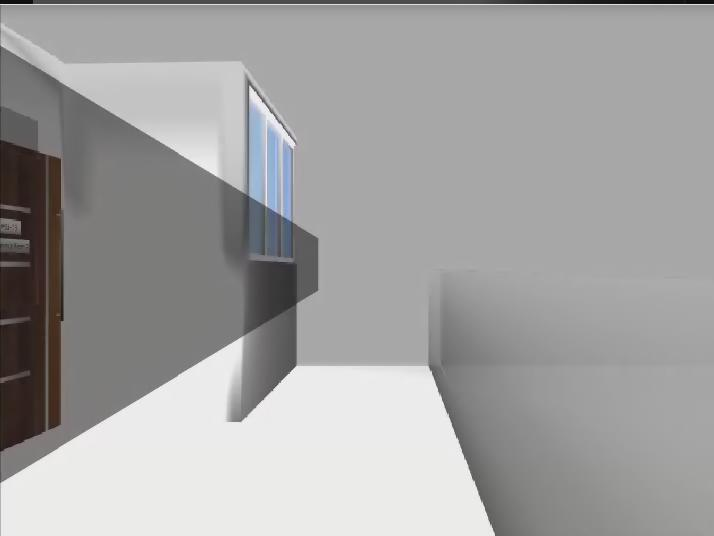door: (1, 140, 64, 449)
